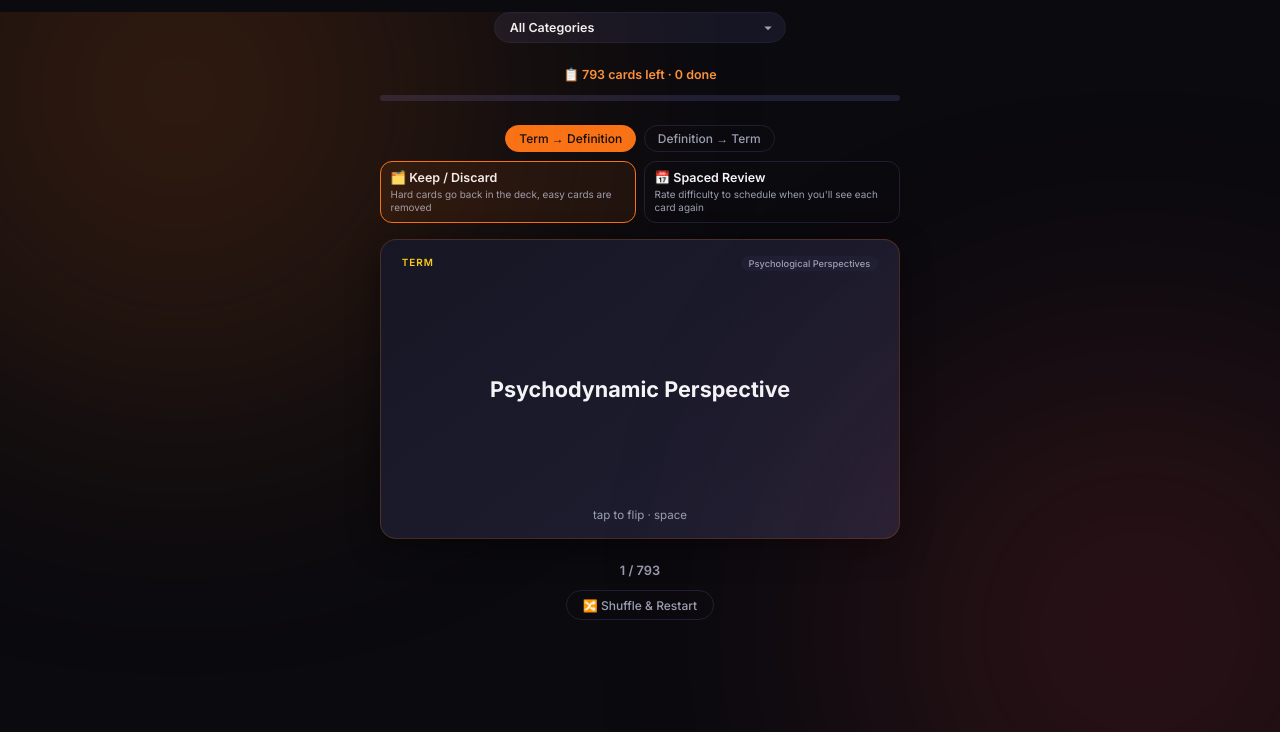
Flashcards › flips card on click and shows session buttons by default
The width and height of the screenshot is (1280, 732).
Click the text "tap to flip · space": x=640, y=388 [380,238,900,538]
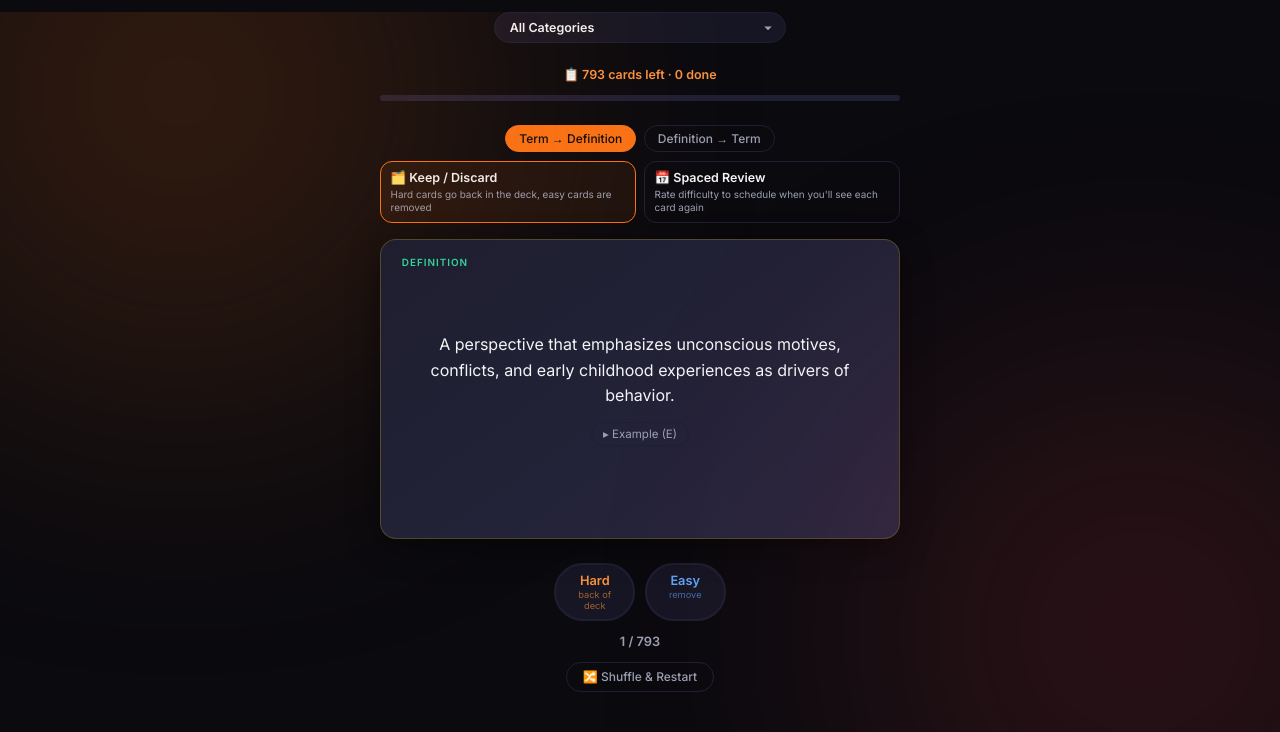
Expected: the button "Hard back of deck" is shown, [554,562,635,621]
Expected: the button "Easy remove" is shown, [645,562,726,621]
